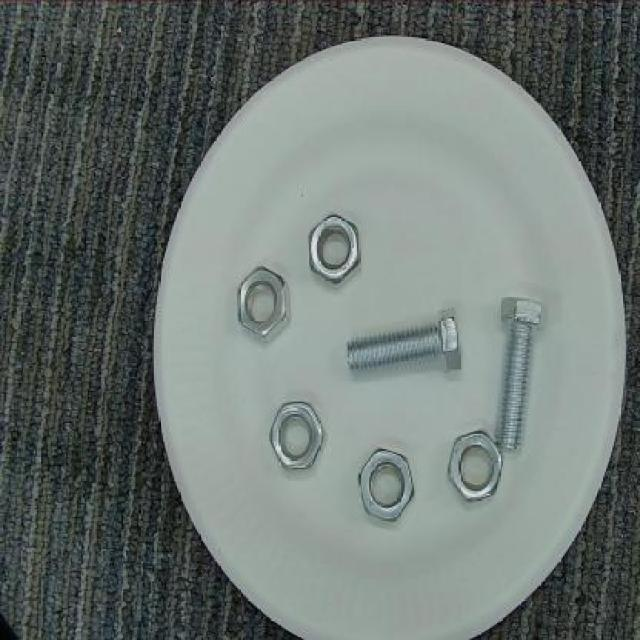Bolt: (493, 292, 546, 457), (344, 311, 464, 378)
Nut: (353, 444, 417, 524), (233, 262, 292, 346), (267, 398, 326, 474), (444, 429, 503, 505), (305, 212, 363, 286)
